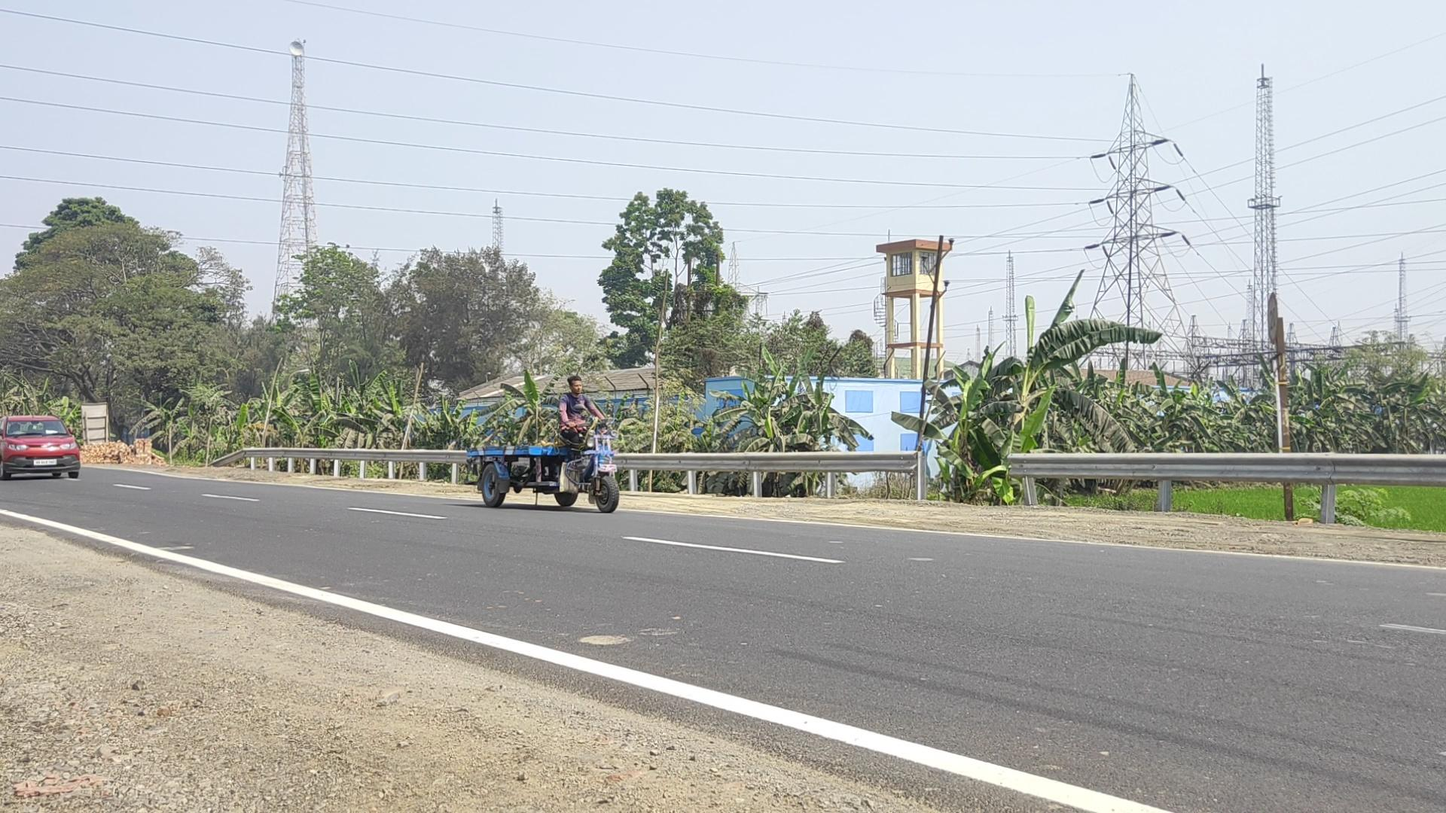car: (1, 415, 81, 480)
